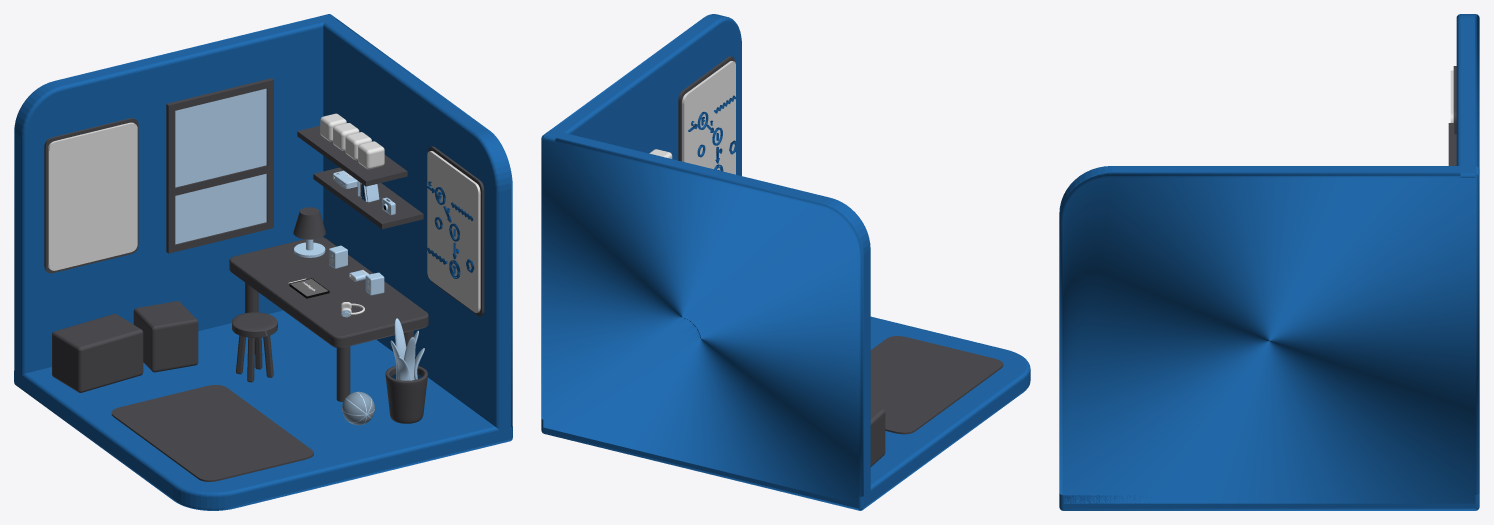
The model's file is student_room.glb.
3 views of the same model, side by side, from view 1: azimuth 30°, elevation 25°; view 2: azimuth 150°, elevation 25°; view 3: azimuth 270°, elevation 25° (orthographic). The views are drawn at different scales.
Visible parts, largest first — view 1: left-wall, floor, right-wall, pic_left_front, glass, Rectangle, desk, pic_right_front, box, split, box 2, shelf.001 (+9 smaller); view 2: left-wall, right-wall, floor, Rectangle, pic_right_front, box, pic_rigth_back; view 3: right-wall, left-wall, floor.
Part boxes in pixels (x1,y1,x2,y2): left-wall: (14,14,336,382); floor: (14,310,512,510); right-wall: (318,14,512,436); pic_left_front: (48,122,137,270); glass: (175,88,266,244); Rectangle: (111,385,313,481); desk: (229,237,428,347); pic_right_front: (427,151,480,312); box: (52,314,143,392); split: (166,78,273,253); box 2: (133,301,198,372); shelf.001: (313,167,423,229); left-wall: (541,130,870,504); right-wall: (541,14,741,417); floor: (541,316,1030,510); Rectangle: (870,336,1003,434); pic_right_front: (682,61,735,174); box: (870,407,885,466); pic_rigth_back: (678,56,734,161); right-wall: (1059,166,1479,503); left-wall: (1456,14,1479,494); floor: (1059,493,1479,510).
Size of the model in its own units: 3.32 by 2.95 by 3.32.
